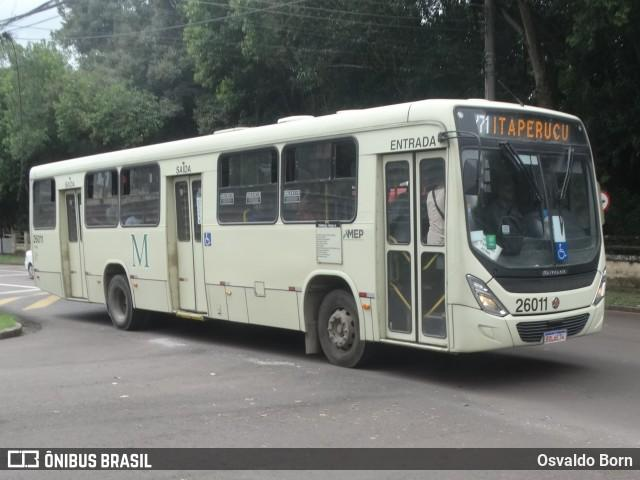ITAPERUCU: (488, 113, 576, 145)
